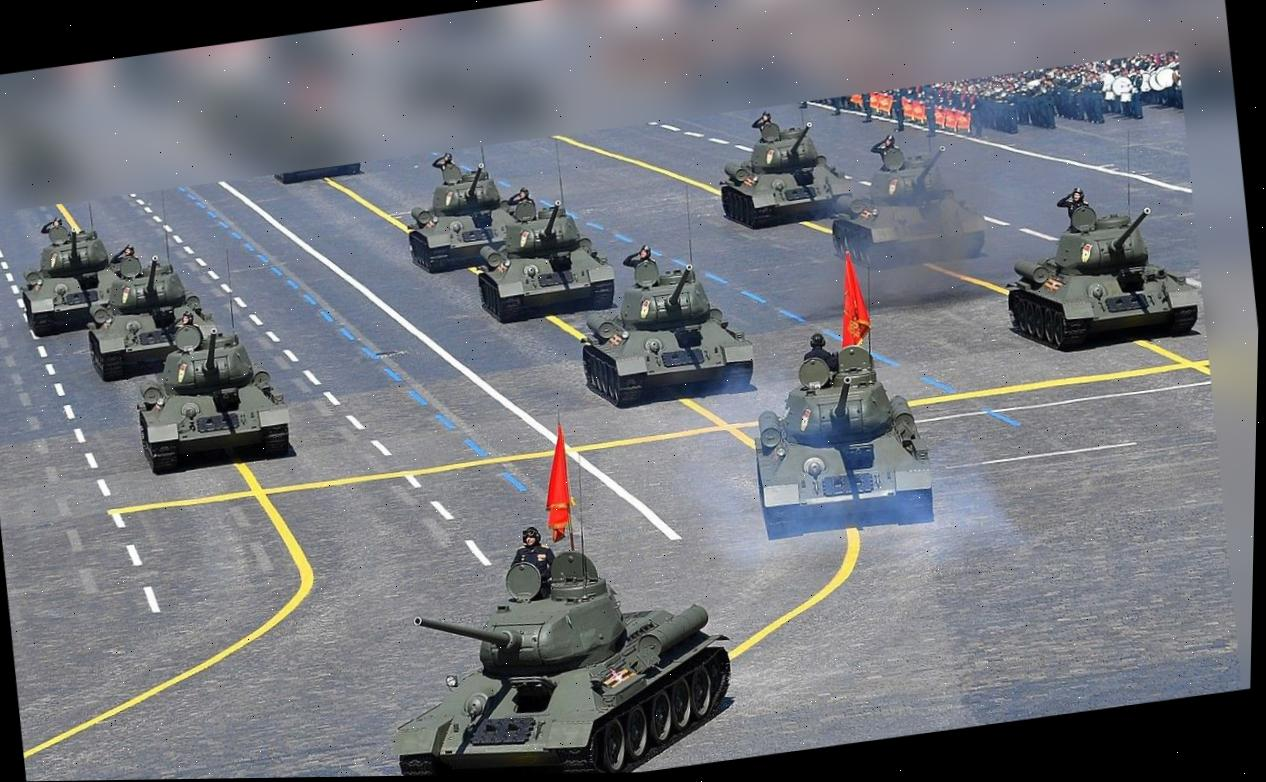tank: (369, 520, 749, 776), (734, 330, 943, 549), (992, 172, 1206, 360), (549, 231, 762, 416), (820, 124, 992, 282), (126, 333, 300, 479), (398, 142, 574, 279), (460, 188, 622, 327), (73, 259, 223, 386), (711, 112, 862, 234), (11, 213, 154, 338)
